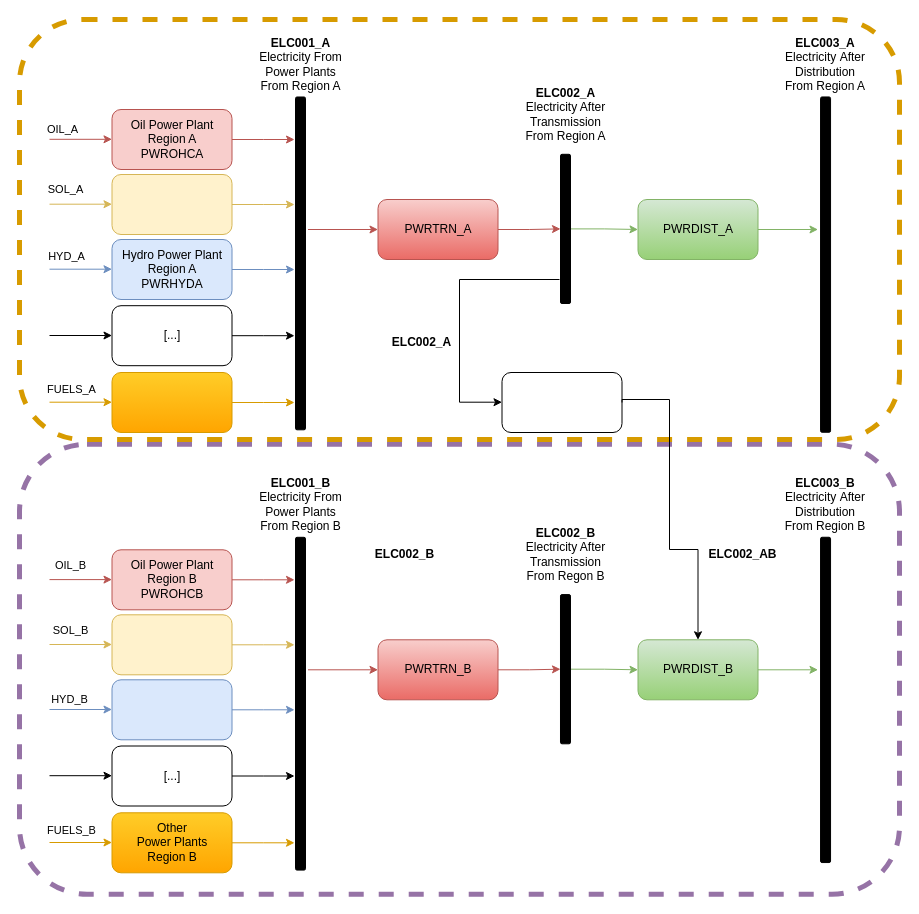
Image size: 919x914. Some labels were removed from this diagram. Each missing label, with the box of its shape:
Hydro Power Plant Region B PWRHYDB: (111, 679, 232, 740)
LIMFLX01 Power Flow Limit From Region A To B: (501, 372, 622, 432)
Other Power Plants Region A: (111, 372, 232, 432)
Solar Power Plant Region A PWRSOLA: (111, 174, 232, 234)
Solar Power Plant Region B PWRSOLB: (111, 614, 232, 675)
